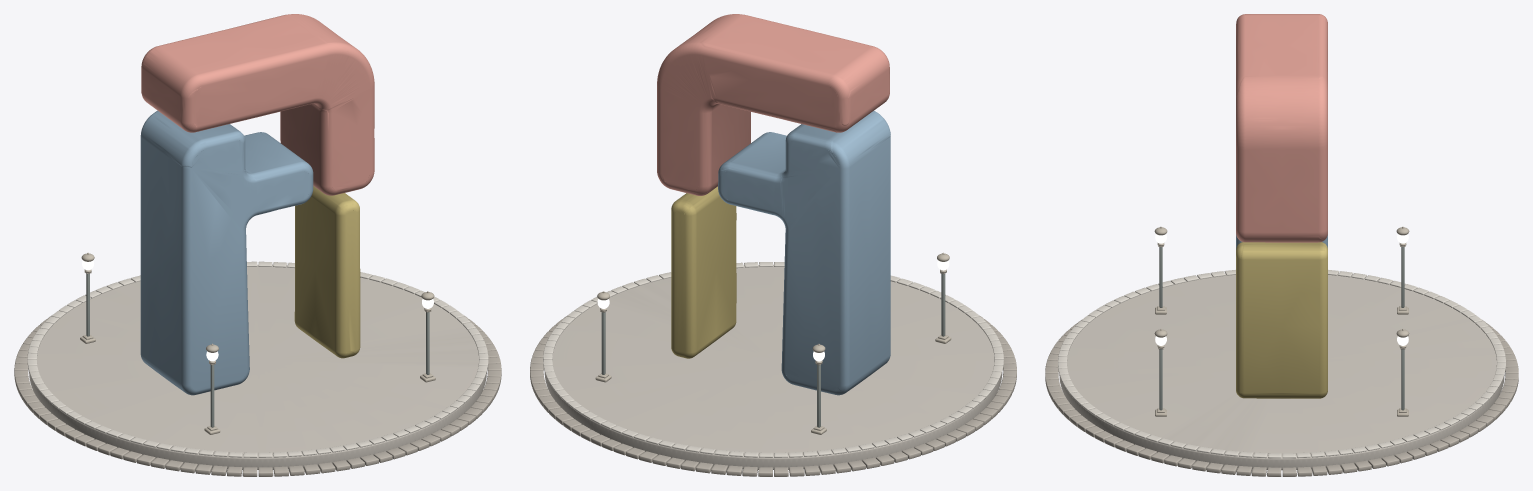
The picture shows the model from 3 angles, left to right: view 1: azimuth 30°, elevation 25°; view 2: azimuth 150°, elevation 25°; view 3: azimuth 270°, elevation 25°; orthographic projection. The views are drawn at different scales.
Parts seen in each view (by area): view 1: Pi_base, Pi_block_blue, Pi_block_pink, Pi_block_yellow; view 2: Pi_base, Pi_block_blue, Pi_block_pink, Pi_block_yellow; view 3: Pi_base, Pi_block_pink, Pi_block_yellow.
Part boxes in pixels (x1,y1,x2,y2): Pi_base: [29, 264, 486, 469]; Pi_block_blue: [140, 110, 313, 395]; Pi_block_pink: [141, 14, 374, 195]; Pi_block_yellow: [294, 186, 360, 358]; Pi_base: [544, 264, 1002, 469]; Pi_block_blue: [718, 111, 890, 395]; Pi_block_pink: [657, 14, 889, 195]; Pi_block_yellow: [671, 186, 736, 358]; Pi_base: [1059, 273, 1504, 470]; Pi_block_pink: [1236, 14, 1327, 242]; Pi_block_yellow: [1236, 242, 1327, 398].
Bounding box in the file's own units: 18 × 13.6 × 18.
